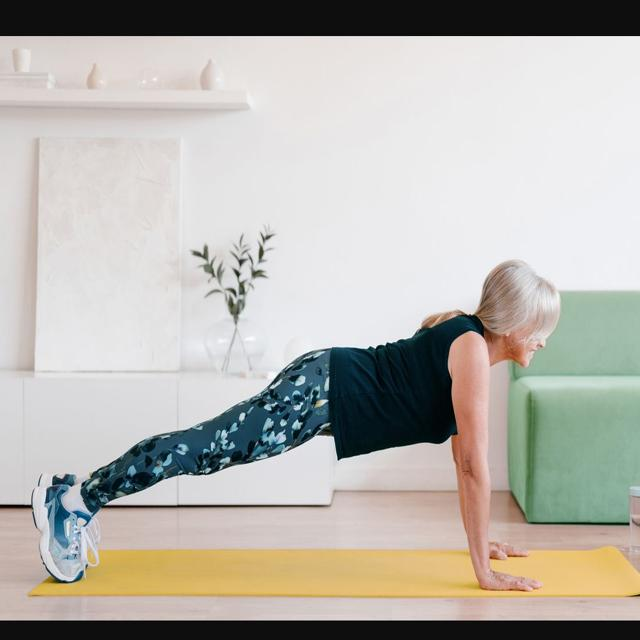Plank_Pose: (24, 249, 577, 606)
